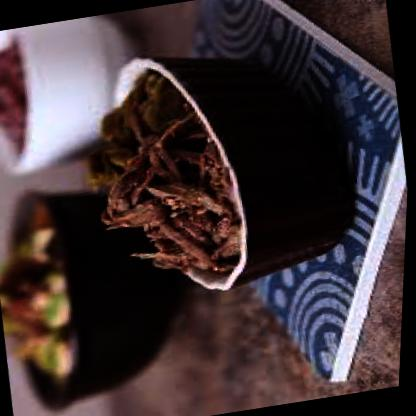janjorim: (69, 69, 255, 286)
